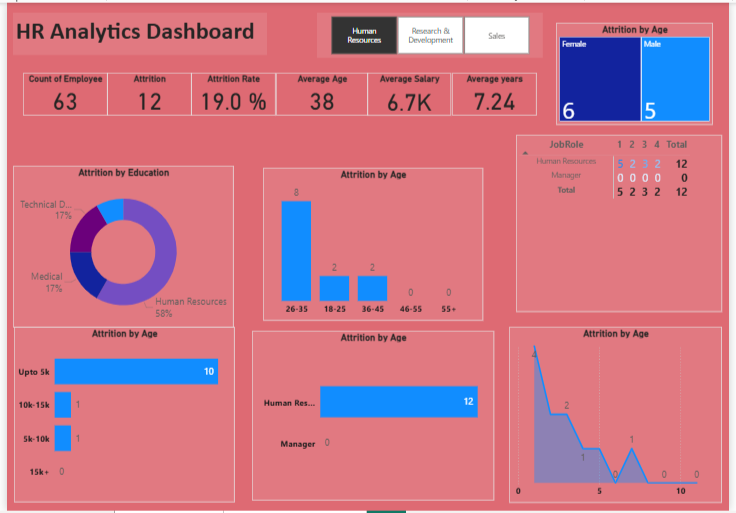

Layout of this report page (visuals, bound fields, positions):
{"tool":"powerbi","page":{"name":"HR Analytics","canvas":[1280,900],"ordinal":0},"visuals":[{"type":"card","title":"Count of Employee","fields":{"Values":["CountNonNull(HR_Analytics.EmpID)"]},"box":[27.8,123.6,149.5,75.6],"z":0},{"type":"card","title":"Attrition","fields":{"Values":["Sum(HR_Analytics.Attrition Count)"]},"box":[177.3,123.6,149.5,75.6],"z":1000},{"type":"card","title":"Average years","fields":{"Values":["Avg(HR_Analytics.YearsAtCompany)"]},"box":[788.7,123.6,149.5,75.6],"z":2000},{"type":"card","title":"Average Salary","fields":{"Values":["Avg(HR_Analytics.MonthlyIncome)"]},"box":[638.7,123.4,149.4,76.4],"z":3000},{"type":"card","title":"Average Age","fields":{"Values":["Avg(HR_Analytics.Age)"]},"box":[476.3,123.6,162.9,75.6],"z":4000},{"type":"card","title":"Attrition Rate","fields":{"Values":["HR_Analytics.Attrition Rate"]},"box":[326.8,123.6,149.5,75.6],"z":5000},{"type":"donutChart","title":"Attrition by Education","fields":{"Category":["HR_Analytics.EducationField"],"Y":["Sum(HR_Analytics.Attrition Count)"]},"box":[10.4,288.4,390.9,286.7],"z":6000},{"type":"columnChart","title":"Attrition by Age","fields":{"Category":["HR_Analytics.AgeGroup"],"Y":["Sum(HR_Analytics.Attrition Count)"]},"box":[453.5,292.3,389.8,271.1],"z":7000},{"type":"pivotTable","fields":{"Rows":["HR_Analytics.JobRole"],"Columns":["HR_Analytics.JobSatisfaction"],"Values":["Sum(HR_Analytics.Attrition Count)"]},"box":[902.3,233.9,364.9,314.5],"z":8000},{"type":"clusteredBarChart","title":"Attrition by Age","fields":{"Category":["HR_Analytics.SalarySlab"],"Y":["Sum(HR_Analytics.Attrition Count)"]},"box":[12.7,574.4,390.9,311],"z":9000},{"type":"clusteredBarChart","title":"Attrition by Age","fields":{"Y":["Sum(HR_Analytics.Attrition Count)"],"Category":["HR_Analytics.JobRole"]},"box":[433.7,580.3,429.2,300.6],"z":10000},{"type":"areaChart","title":"Attrition by Age","fields":{"Category":["HR_Analytics.YearsAtCompany"],"Y":["Sum(HR_Analytics.Attrition Count)"]},"box":[890.1,574.4,389.2,311],"z":11000},{"type":"treemap","title":"Attrition by Age","fields":{"Group":["HR_Analytics.Gender"],"Values":["Sum(HR_Analytics.Attrition Count)"]},"box":[973,34.7,278,180.7],"z":12000},{"type":"slicer","fields":{"Values":["HR_Analytics.Department"]},"box":[550,17,400,80],"z":13000},{"type":"textbox","box":[10,17,450,75],"z":14000}]}

Visuals, with their boxes in screenshot pixels (x1, y1, x2, y2), scaled from the page's 1280x900 canvas onto the 736x513 screenshot:
"Count of Employee" card: {"left": 16, "top": 70, "right": 102, "bottom": 114}
"Attrition" card: {"left": 102, "top": 70, "right": 188, "bottom": 114}
"Average years" card: {"left": 454, "top": 70, "right": 539, "bottom": 114}
"Average Salary" card: {"left": 367, "top": 70, "right": 453, "bottom": 114}
"Average Age" card: {"left": 274, "top": 70, "right": 368, "bottom": 114}
"Attrition Rate" card: {"left": 188, "top": 70, "right": 274, "bottom": 114}
"Attrition by Education" donutChart: {"left": 6, "top": 164, "right": 231, "bottom": 328}
"Attrition by Age" columnChart: {"left": 261, "top": 167, "right": 485, "bottom": 321}
pivotTable - HR_Analytics.JobRole x HR_Analytics.JobSatisfaction: {"left": 519, "top": 133, "right": 729, "bottom": 313}
"Attrition by Age" clusteredBarChart: {"left": 7, "top": 327, "right": 232, "bottom": 505}
"Attrition by Age" clusteredBarChart: {"left": 249, "top": 331, "right": 496, "bottom": 502}
"Attrition by Age" areaChart: {"left": 512, "top": 327, "right": 735, "bottom": 505}
"Attrition by Age" treemap: {"left": 559, "top": 20, "right": 719, "bottom": 123}
slicer - HR_Analytics.Department: {"left": 316, "top": 10, "right": 546, "bottom": 55}
textbox: {"left": 6, "top": 10, "right": 264, "bottom": 52}
